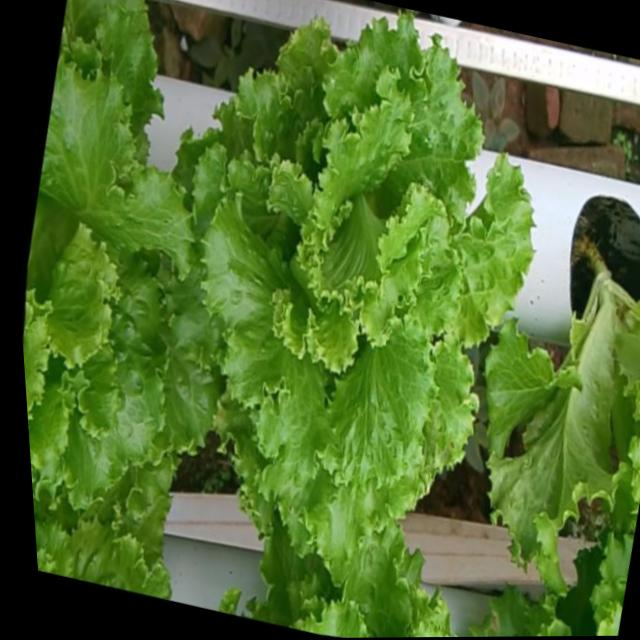Mature: (196, 18, 538, 563), (23, 49, 220, 506)
